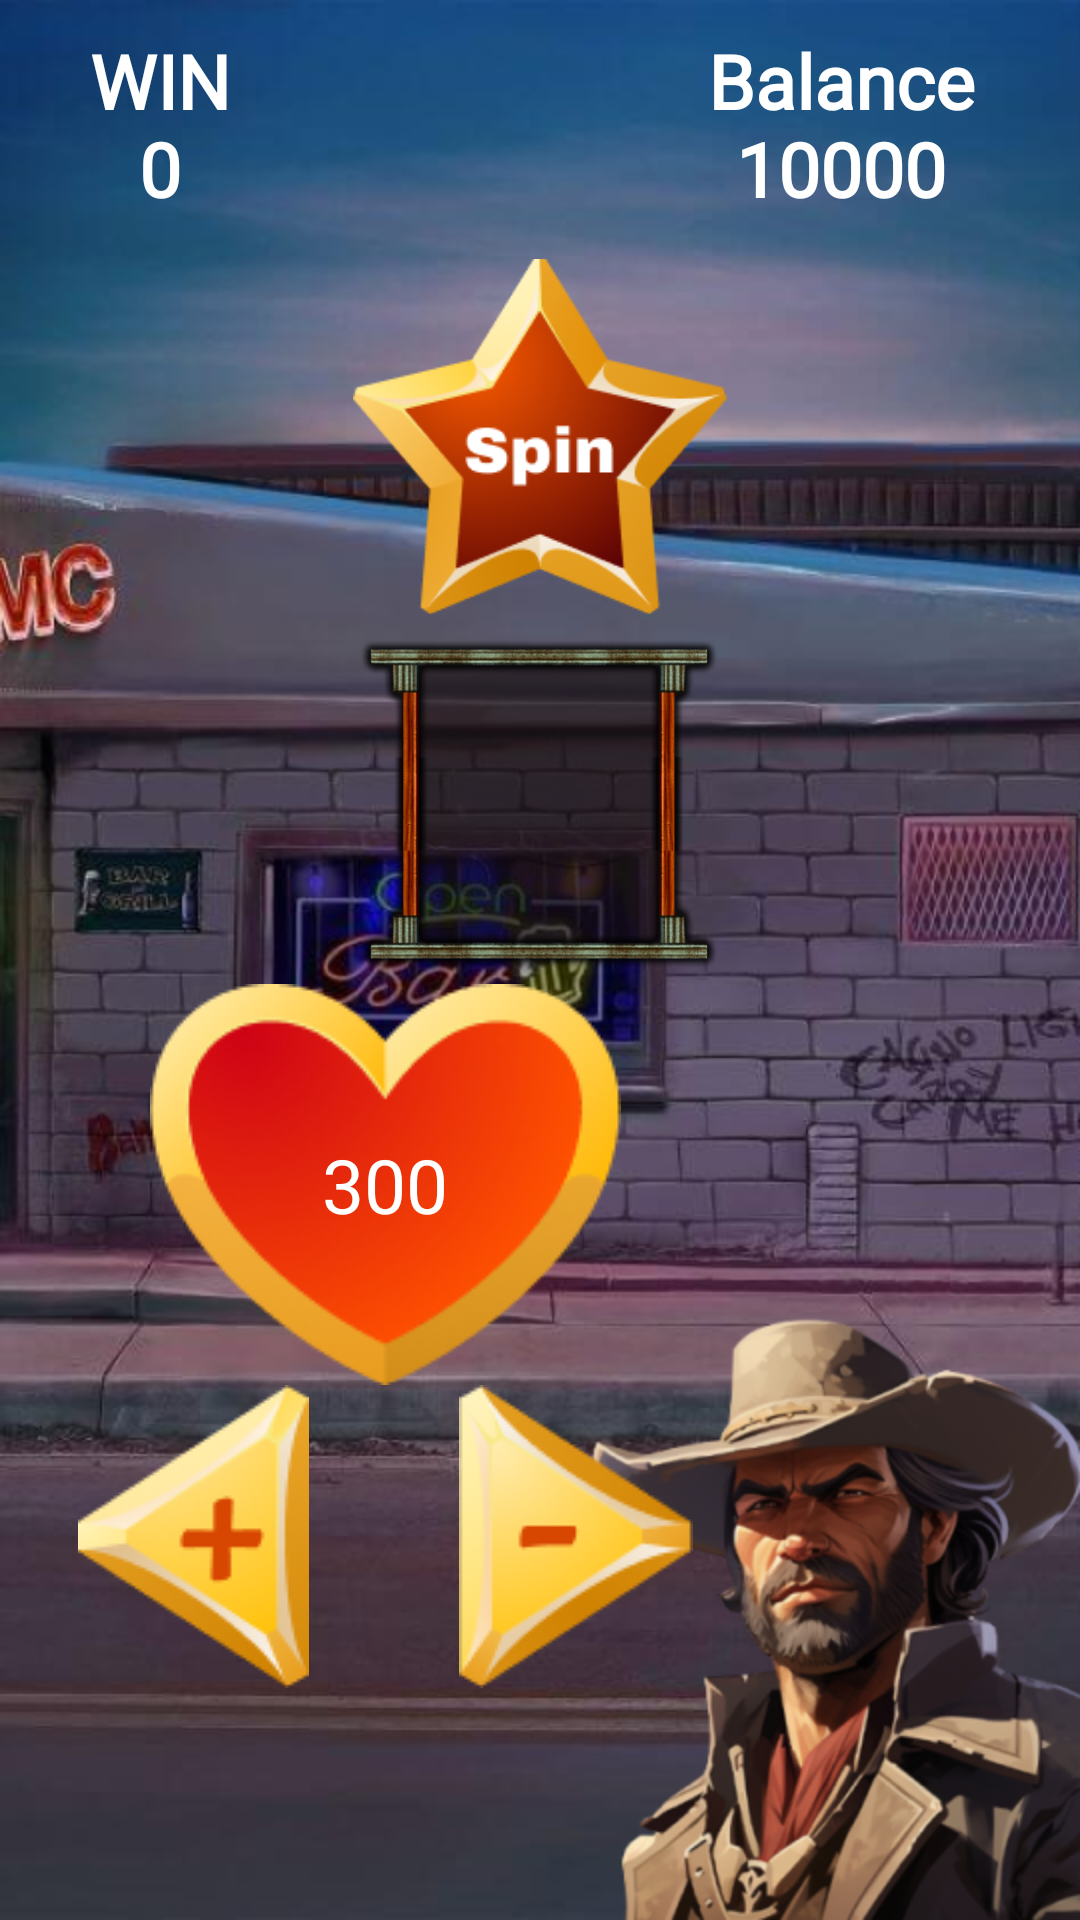

Locate icon controls on the screen. Image size 1080*1920, boxes as [x1,y1,x2,y2].
minus stake: [459,1385,693,1688]
plus stake: [78,1385,309,1688]
